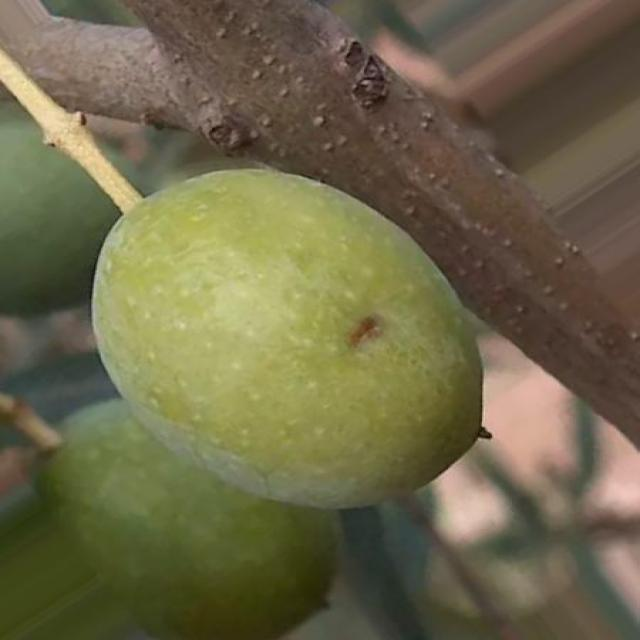Olive Fruit Fly: (95, 170, 481, 507)
